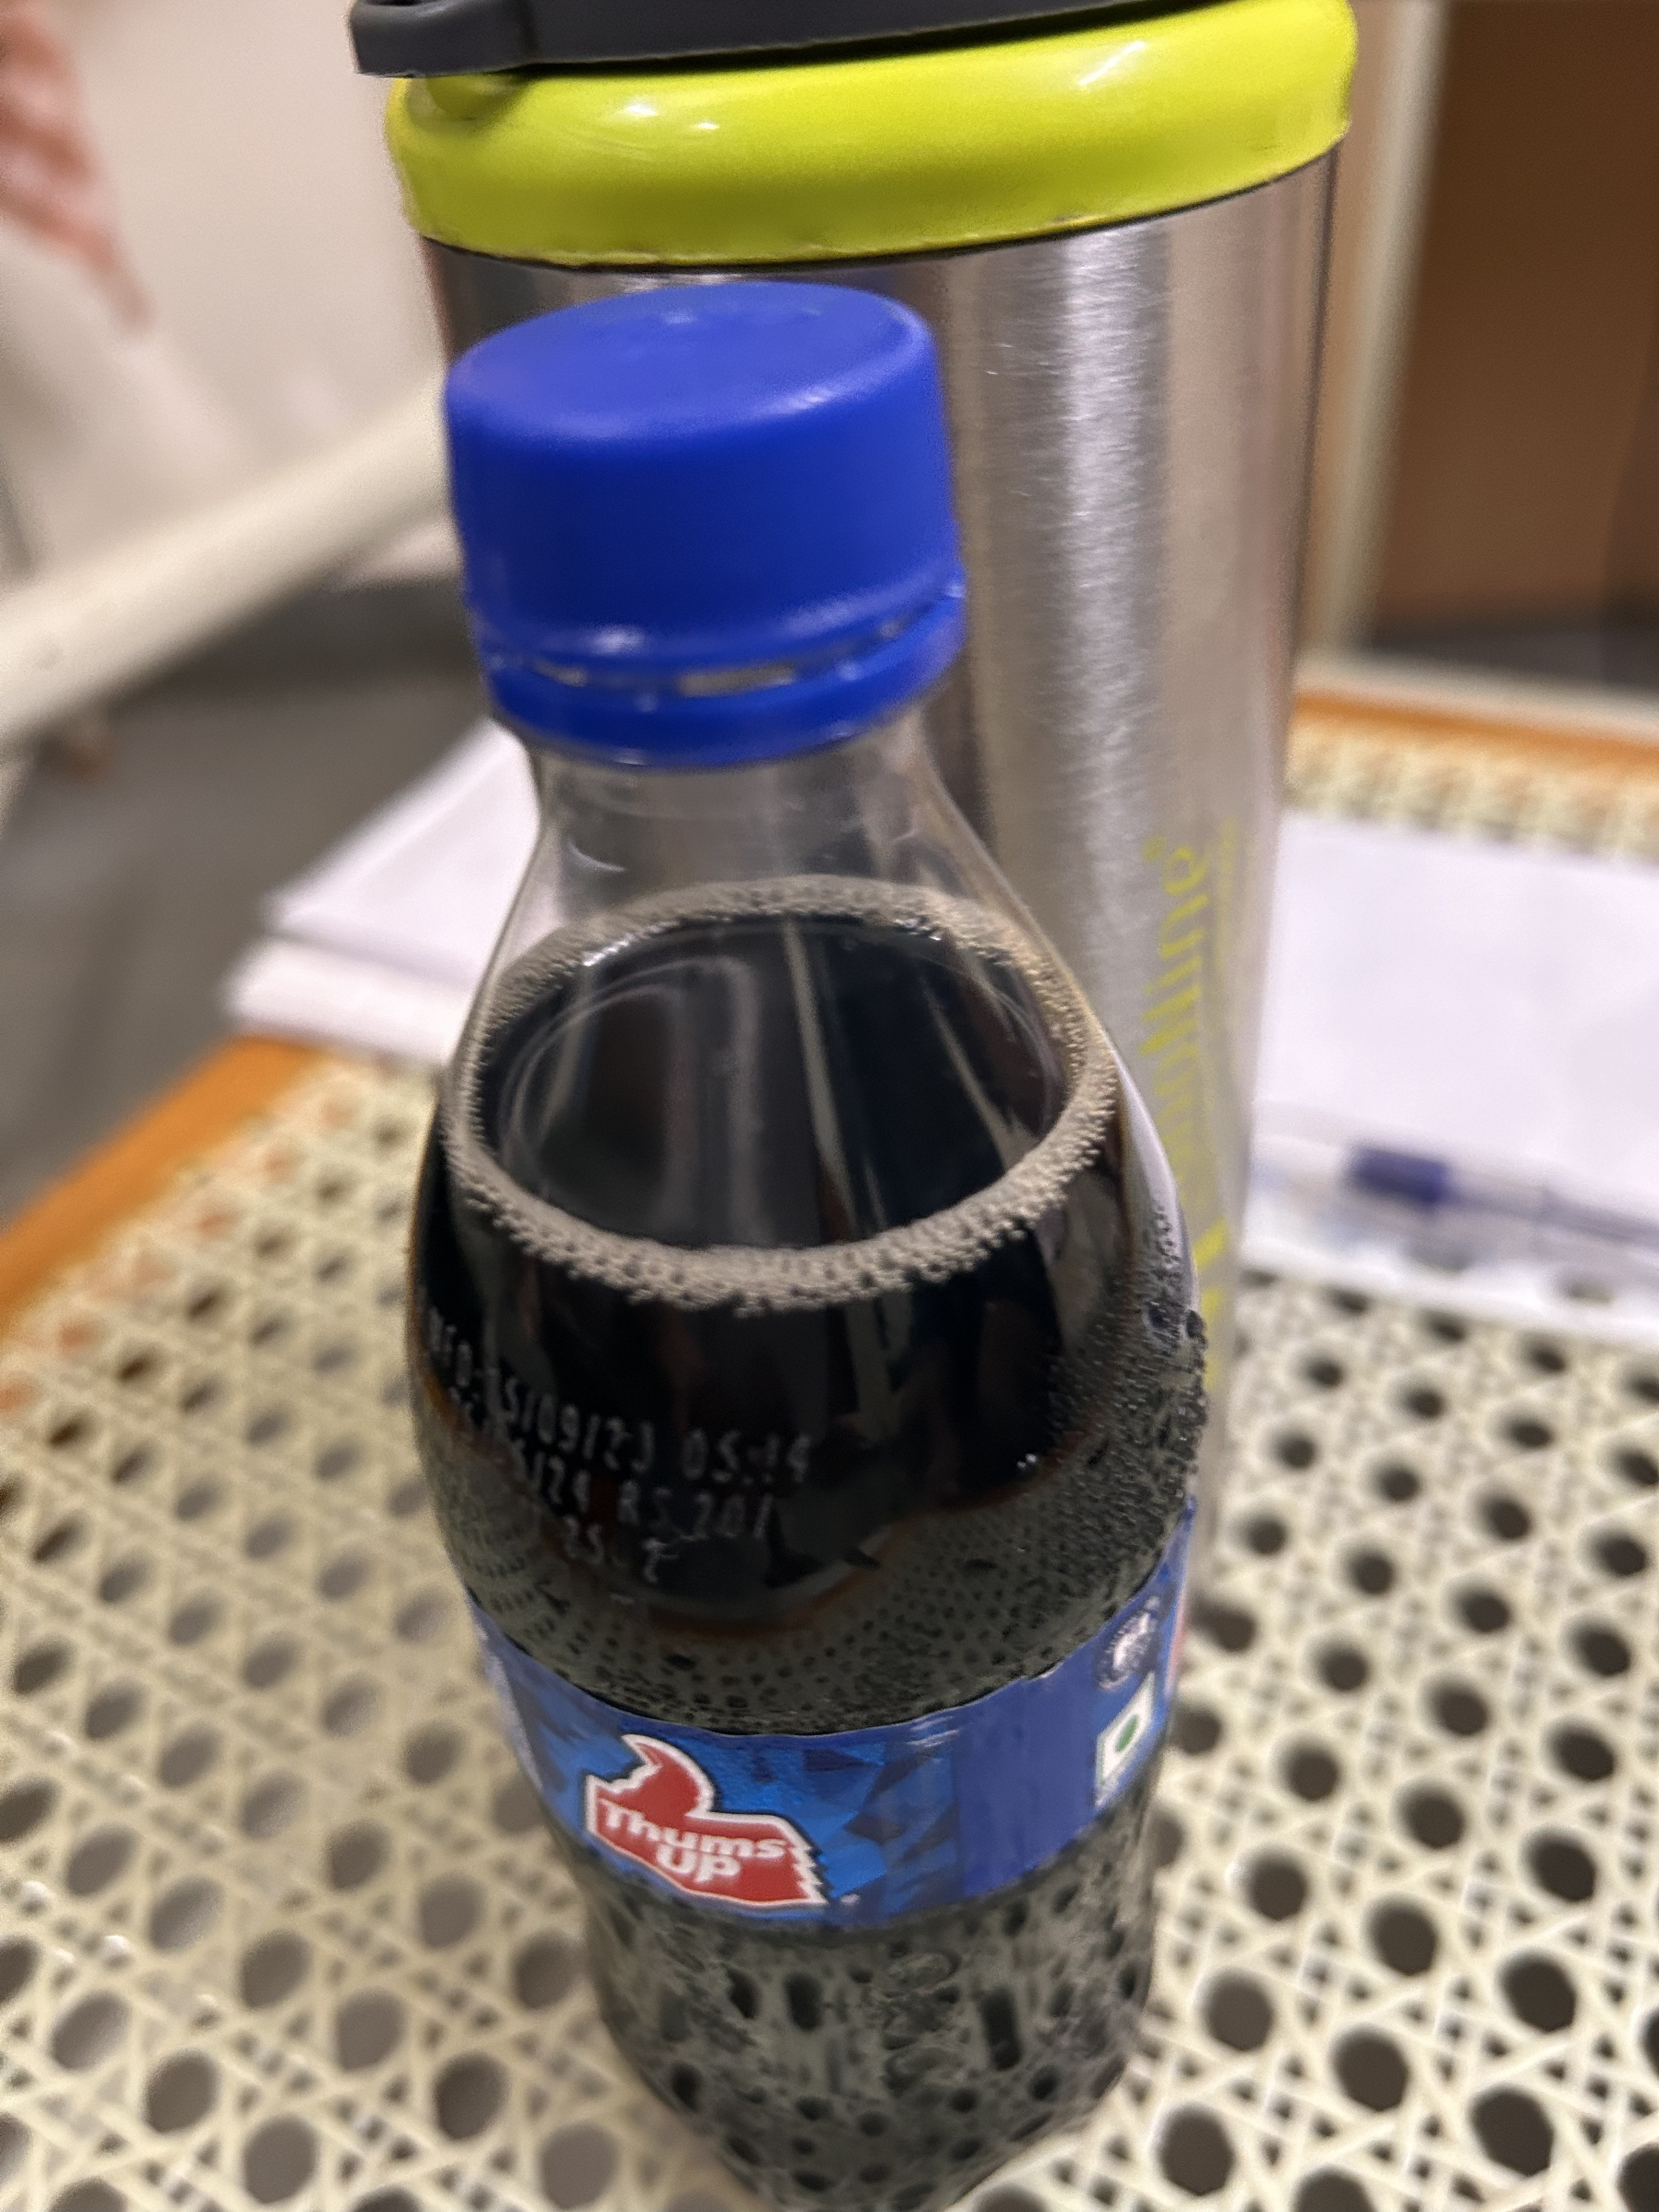unsealed: (415, 300, 995, 852)
